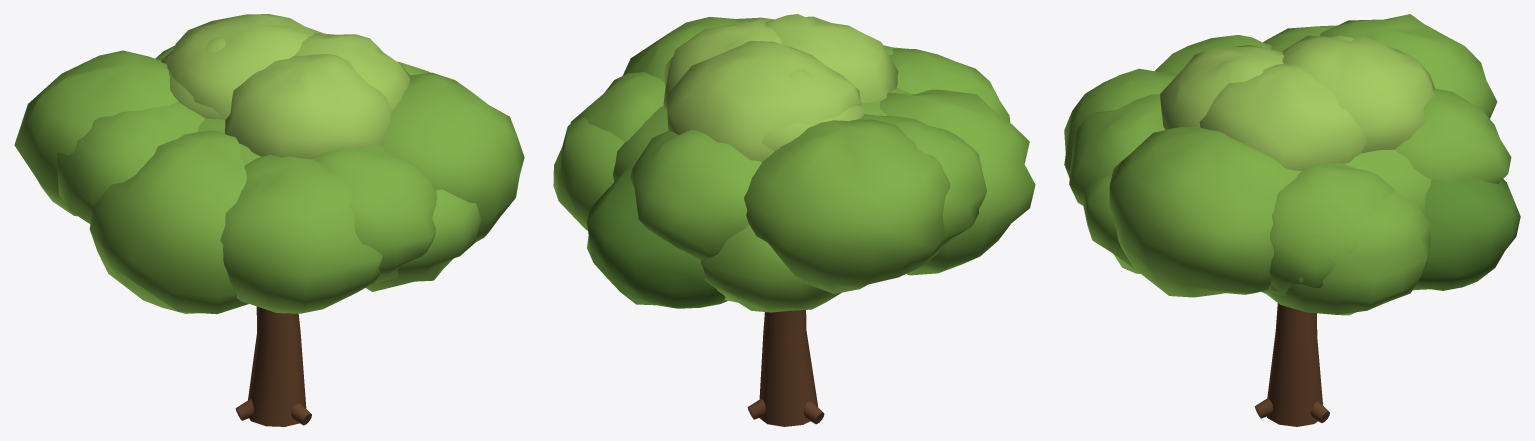
File: tree_zelkova.glb
3 views of the same model, side by side, from view 1: azimuth 30°, elevation 25°; view 2: azimuth 150°, elevation 25°; view 3: azimuth 270°, elevation 25° (orthographic).
Parts seen in each view (by area): view 1: tree_zelkova; view 2: tree_zelkova; view 3: tree_zelkova.
Boxes of the visible parts, <box> form: tree_zelkova: <box>14,14,524,426</box>; tree_zelkova: <box>553,14,1035,426</box>; tree_zelkova: <box>1064,14,1520,426</box>.
Size of the model in its own units: 6.42 by 5.69 by 6.39.
